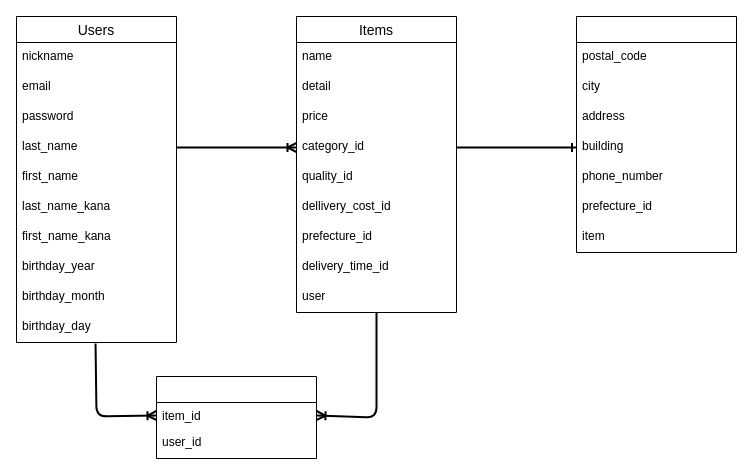
The diagram is 753 pixels wide and 475 high, and some of its shapes have lost their labels. The shapes that lost their labels are listed below. From the top down, each one's box as (x1, y1, x2, y2) in pixels, then its label:
(576, 16, 736, 252): Delivery
(156, 376, 316, 458): PurchaseLogs
